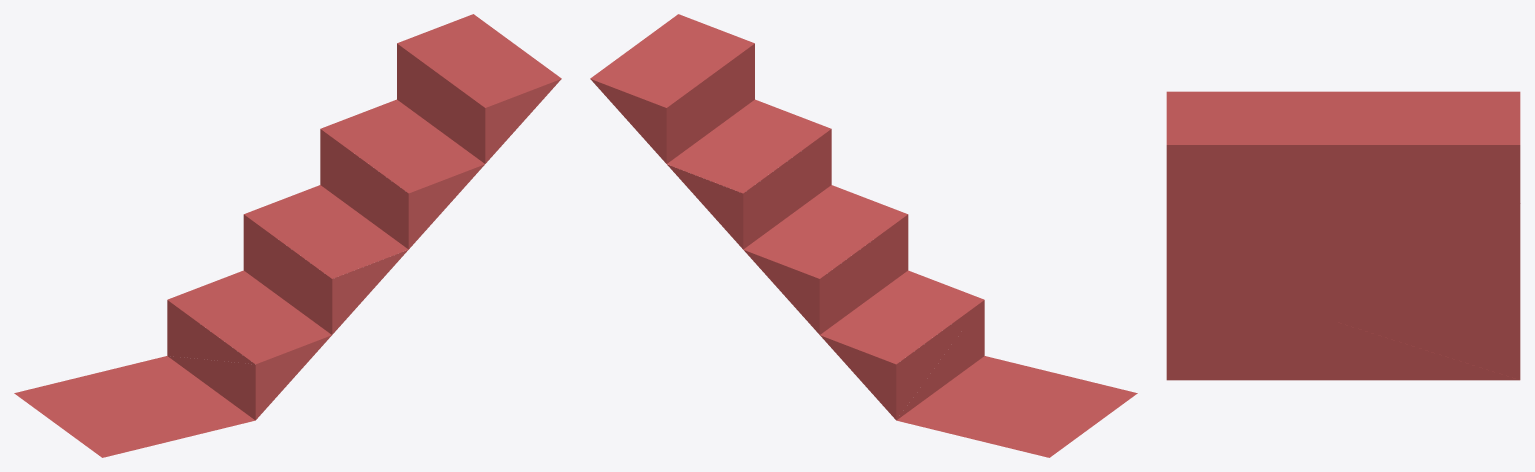
File: km1_dorifu1.glb
The picture shows the model from 3 angles, left to right: view 1: azimuth 30°, elevation 25°; view 2: azimuth 150°, elevation 25°; view 3: azimuth 270°, elevation 25°; orthographic projection. The views are drawn at different scales.
Parts seen in each view (by area): view 1: km1_dorifu1_col; view 2: km1_dorifu1_col; view 3: km1_dorifu1_col.
Boxes of the visible parts, bbox=[...] form: km1_dorifu1_col: bbox=[14, 14, 561, 457]; km1_dorifu1_col: bbox=[590, 14, 1137, 457]; km1_dorifu1_col: bbox=[1166, 91, 1520, 380].
Bounding box in the file's own units: 1.8 × 1 × 0.6016.
